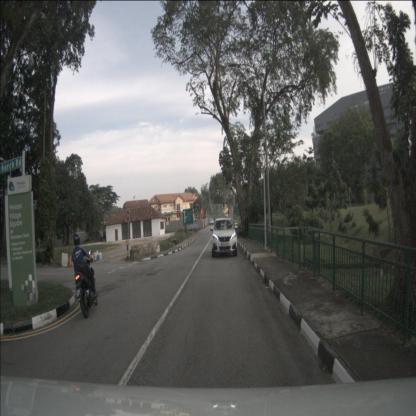movable_object-trafficcone: (68, 253, 72, 267)
vehicle-car: (212, 218, 237, 258), (209, 218, 214, 225)
vehicle-motorcycle: (72, 232, 99, 319)
